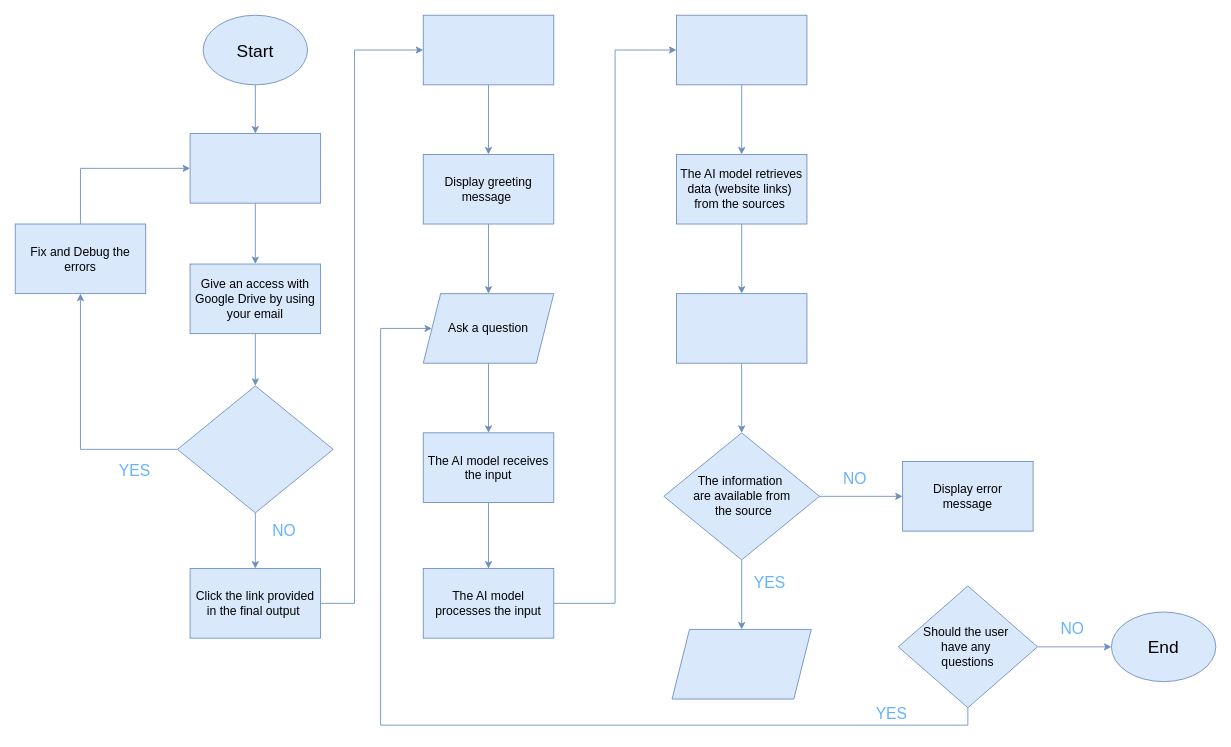
The diagram is 1231 pixels wide and 747 high, and some of its shapes have lost their labels. The centre of each missing label's shape, as x and y in pixels:
Generate the response: (741,328)
Open the chatbot: (488,49)
Run all the lines of the coding in Google Colab: (255,168)
The AI model identifies the user's intent based on input: (741,49)
The chatbot sends the response to the user: (741,664)
The outputs have errors (Google Colab): (255,449)
